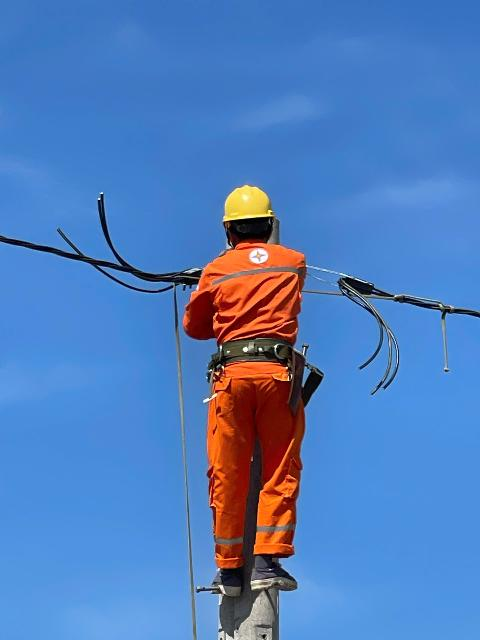harness: (216, 335, 300, 371)
helmet: (209, 184, 282, 224)
shoes: (248, 543, 301, 594), (202, 556, 247, 601)
